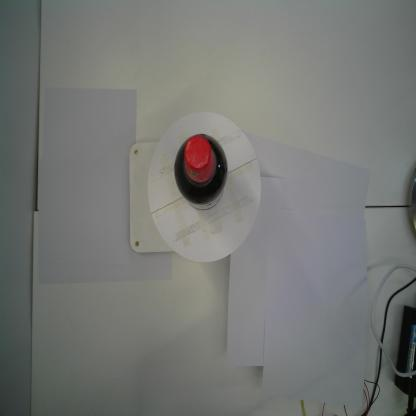Alcohol: (174, 134, 229, 212)
